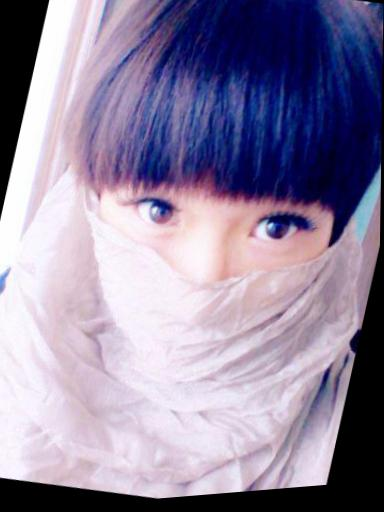WRONG: (58, 119, 353, 429)
